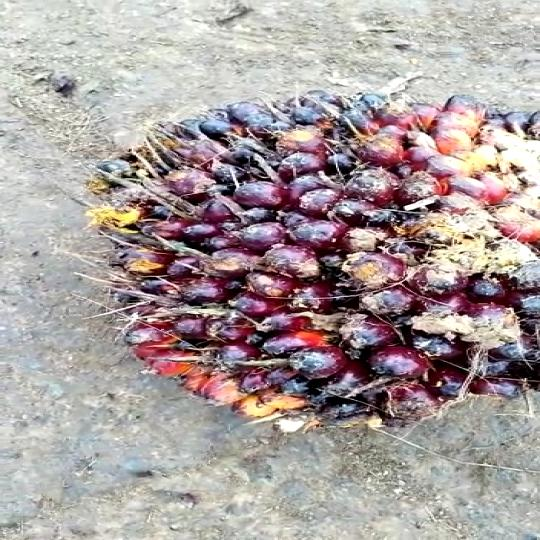kurang masak: (102, 60, 540, 420)
